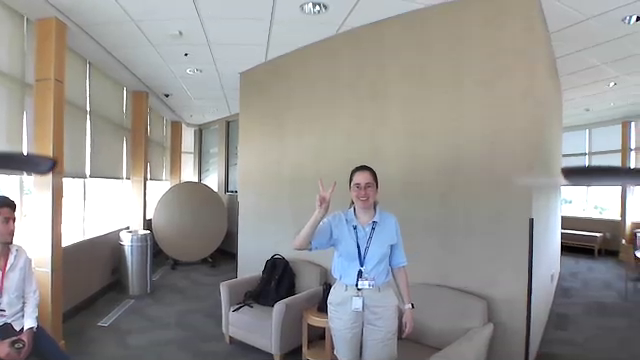peace: (310, 173, 340, 216)
